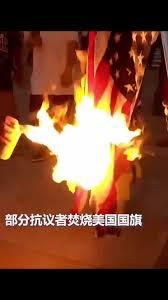fire: (13, 88, 139, 195)
